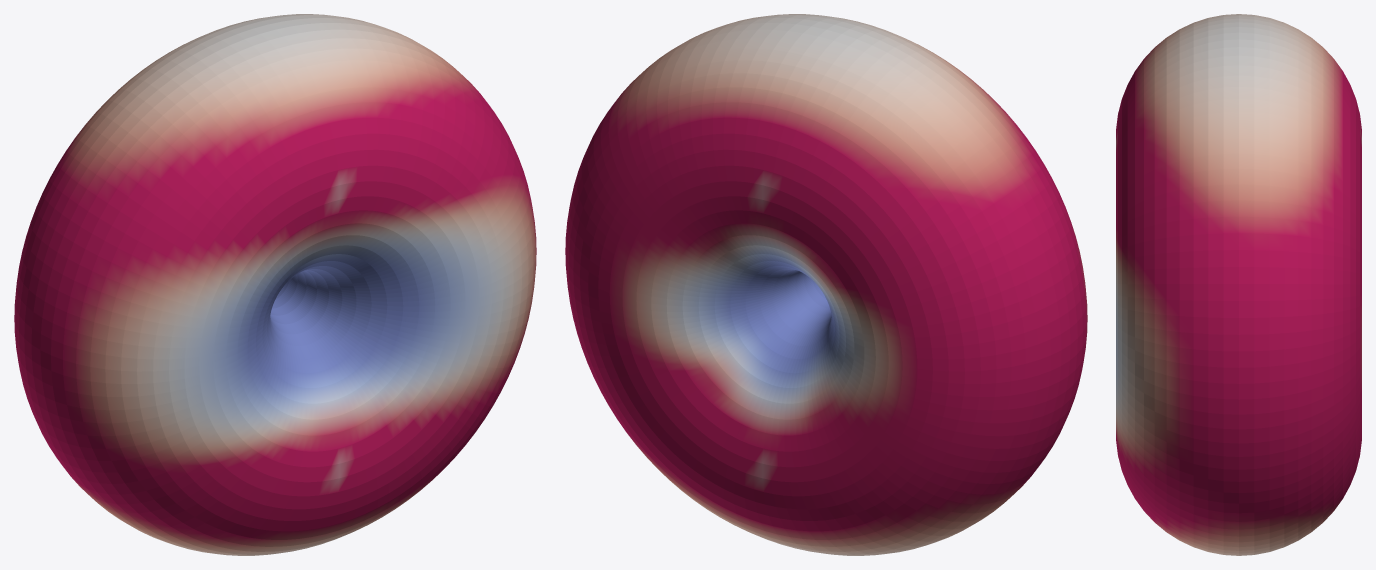
The picture shows the model from 3 angles, left to right: view 1: azimuth 30°, elevation 25°; view 2: azimuth 150°, elevation 25°; view 3: azimuth 270°, elevation 25°; orthographic projection. The views are drawn at different scales.
Parts seen in each view (by area): view 1: world; view 2: world; view 3: world.
Part boxes in pixels (x1=…): world: x1=14, y1=14, x2=536, y2=555; world: x1=565, y1=14, x2=1087, y2=555; world: x1=1116, y1=14, x2=1361, y2=555.
Bounding box in the file's own units: 22 × 22 × 9.98.
